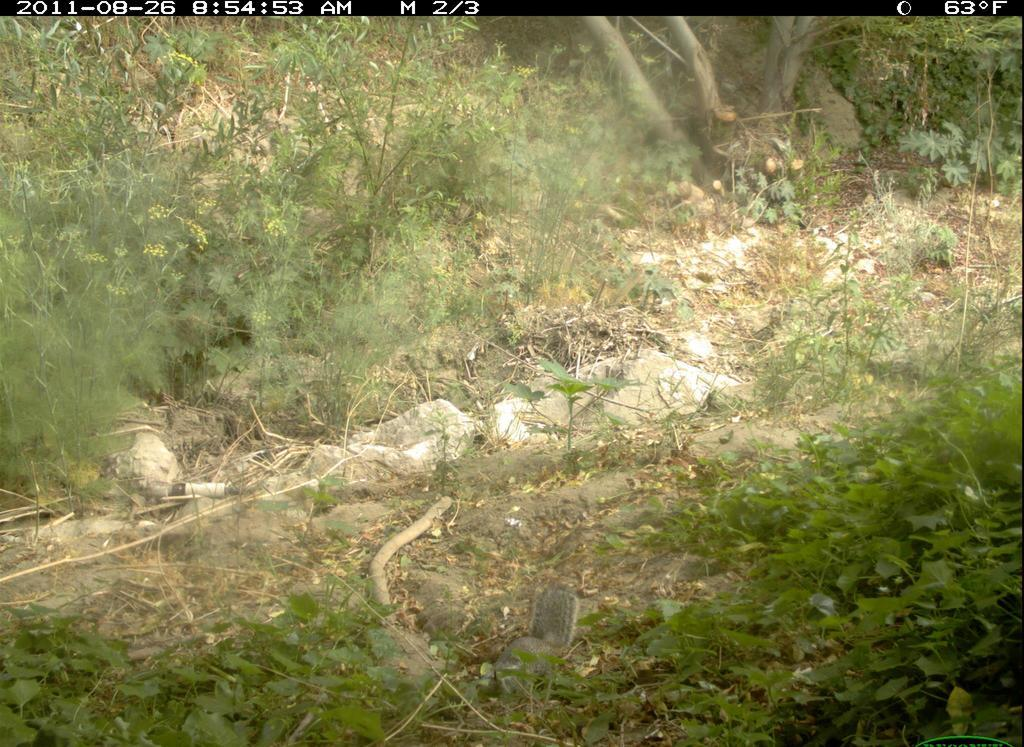squirrel: (479, 582, 585, 705)
